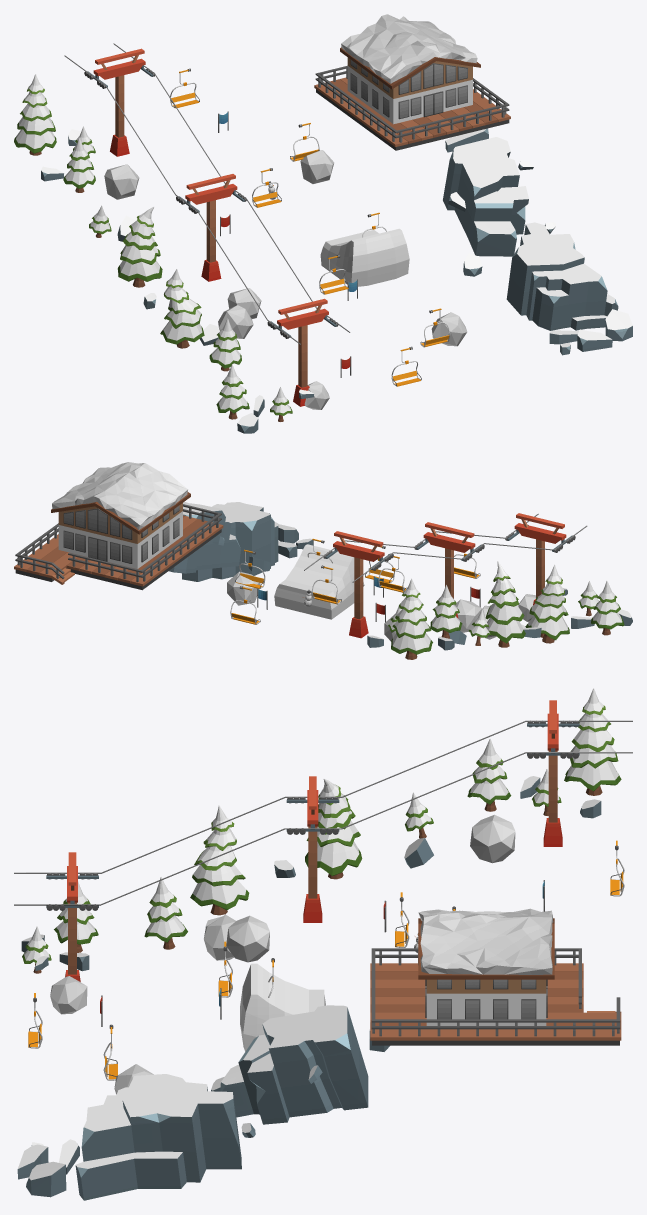
The model's file is ski_resort.glb.
3 renders of one model, top to bottom at view 1: azimuth 30°, elevation 25°; view 2: azimuth 150°, elevation 25°; view 3: azimuth 270°, elevation 25°, orthographic. The views are drawn at different scales.
Visible parts, largest first — view 1: ski house_37, stone winter large 2_9, stone winter large_33, ski lift_16, snow slide_32, fir tree winter tilted 3_21, fir tree winter bent 3_35, fir tree winter large 3_15, fir tree winter medium 3 (1)_7, fir tree winter medium 3_6, fir tree winter medium 3 (2)_12, snowdrift (5)_47 (+6 smaller); view 2: ski house_37, ski lift_16, snow slide_32, stone winter large 2_9, stone winter large_33, fir tree winter large 3_15, fir tree winter tilted 3_21, fir tree winter bent 3_35, fir tree winter medium 3_6, fir tree winter medium 3 (2)_12, snowdrift (4)_5, snowdrift (3)_3 (+8 smaller); view 3: ski house_37, stone winter large 2_9, stone winter large_33, ski lift_16, snow slide_32, fir tree winter bent 3_35, fir tree winter large 3_15, fir tree winter tilted 3_21, snowdrift (5)_47, fir tree winter medium 3 (1)_7, fir tree winter medium 3_6, snowdrift (3)_3 (+4 smaller).
Part boxes in pixels (<box>): ski house_37: <box>314,14,510,150</box>; stone winter large 2_9: <box>506,222,618,330</box>; stone winter large_33: <box>443,137,528,256</box>; ski lift_16: <box>64,43,350,406</box>; snow slide_32: <box>320,228,409,286</box>; fir tree winter tilted 3_21: <box>117,207,162,287</box>; fir tree winter bent 3_35: <box>160,269,204,348</box>; fir tree winter large 3_15: <box>14,74,56,155</box>; fir tree winter medium 3 (1)_7: <box>209,318,241,371</box>; fir tree winter medium 3_6: <box>63,138,95,192</box>; fir tree winter medium 3 (2)_12: <box>216,364,249,419</box>; snowdrift (5)_47: <box>104,164,139,199</box>; ski house_37: <box>14,462,223,590</box>; ski lift_16: <box>304,513,587,638</box>; snow slide_32: <box>274,544,354,619</box>; stone winter large 2_9: <box>182,502,278,581</box>; stone winter large_33: <box>168,501,240,573</box>; fir tree winter large 3_15: <box>391,578,432,659</box>; fir tree winter tilted 3_21: <box>485,561,525,647</box>; fir tree winter bent 3_35: <box>525,564,569,643</box>; fir tree winter medium 3_6: <box>430,585,462,638</box>; fir tree winter medium 3 (2)_12: <box>591,581,624,635</box>; snowdrift (4)_5: <box>227,571,260,605</box>; snowdrift (3)_3: <box>454,599,482,632</box>; ski house_37: <box>370,908,621,1045</box>; stone winter large 2_9: <box>75,1074,241,1200</box>; stone winter large_33: <box>220,1005,368,1124</box>; ski lift_16: <box>14,700,632,981</box>; snow slide_32: <box>240,963,325,1051</box>; fir tree winter bent 3_35: <box>190,805,249,915</box>; fir tree winter large 3_15: <box>564,688,621,795</box>; fir tree winter tilted 3_21: <box>305,779,362,879</box>; snowdrift (5)_47: <box>470,814,515,863</box>; fir tree winter medium 3 (1)_7: <box>144,877,187,949</box>; fir tree winter medium 3_6: <box>467,738,511,811</box>; snowdrift (3)_3: <box>226,915,269,962</box>.
Bounding box in the file's own units: 20.6 × 10.7 × 20.56.
1 material, 1 textured.
